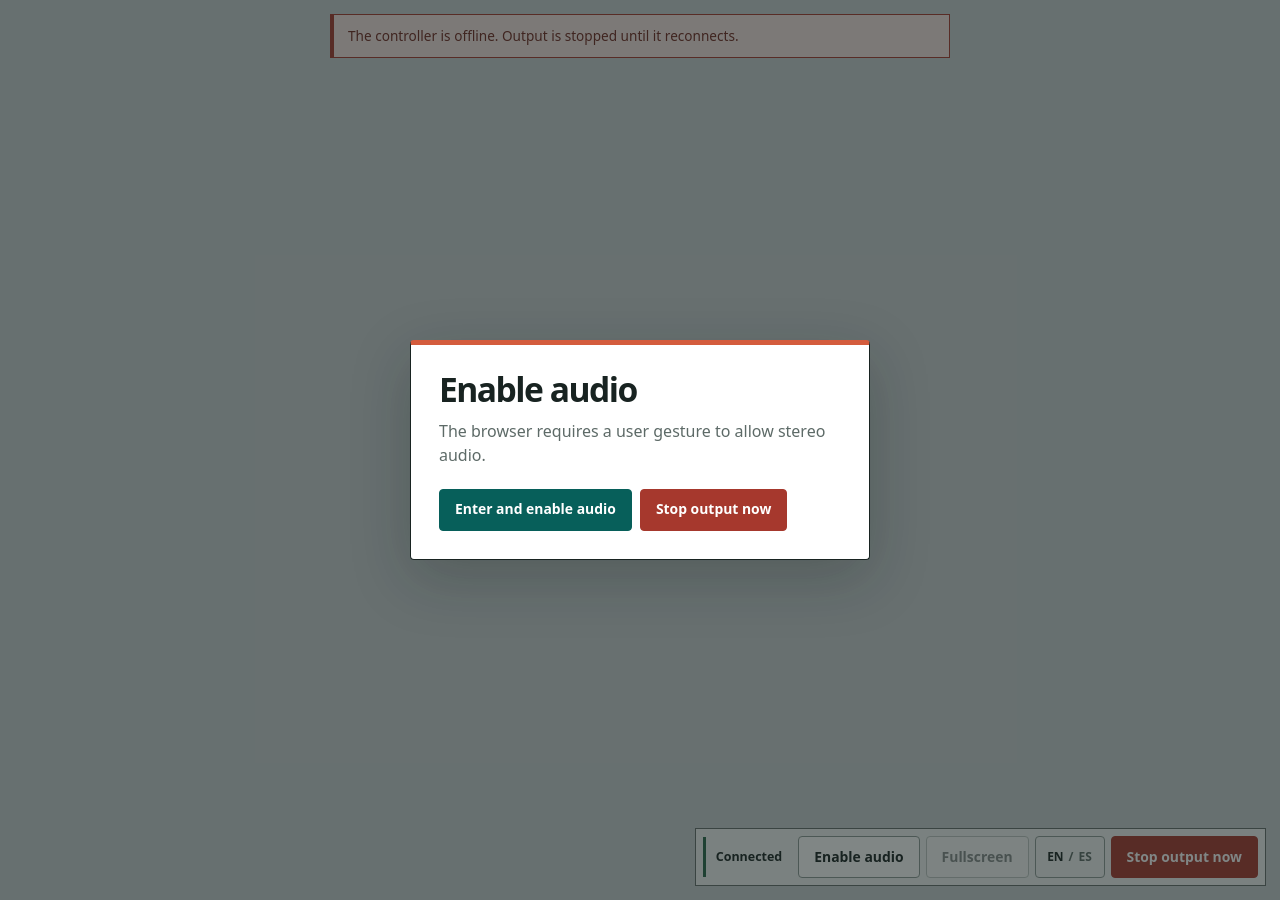
Test case: ClientSessionPage › lets the participant leave the audio gate by stopping locally
This screenshot has width=1280, height=900.
Check: the dialog "Enable audio" is shown, box [410, 340, 870, 560]
Click the button "Stop output now".
click(714, 510)  # box [640, 489, 787, 531]
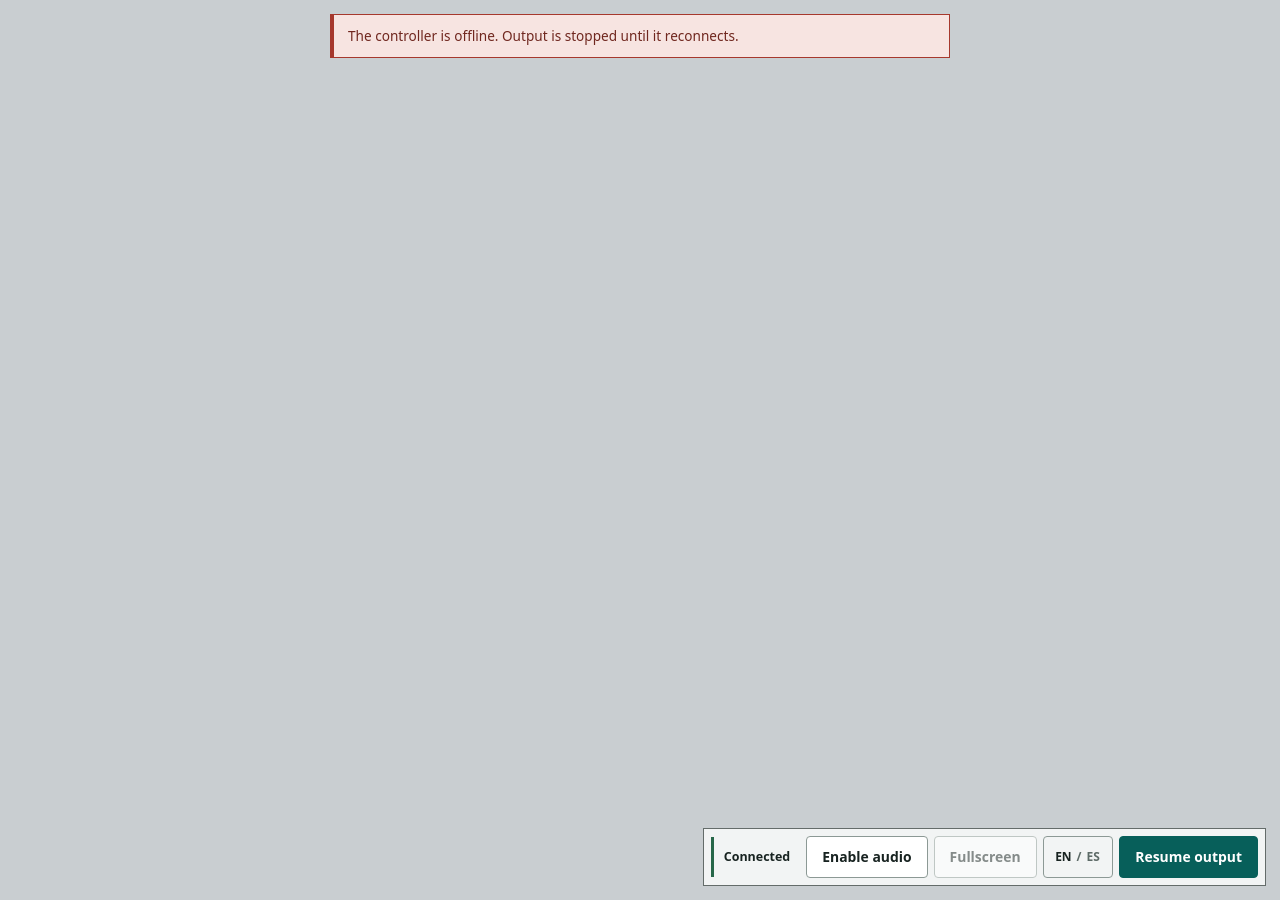
Check: the button "Resume output" is shown, box [1119, 836, 1258, 878]
